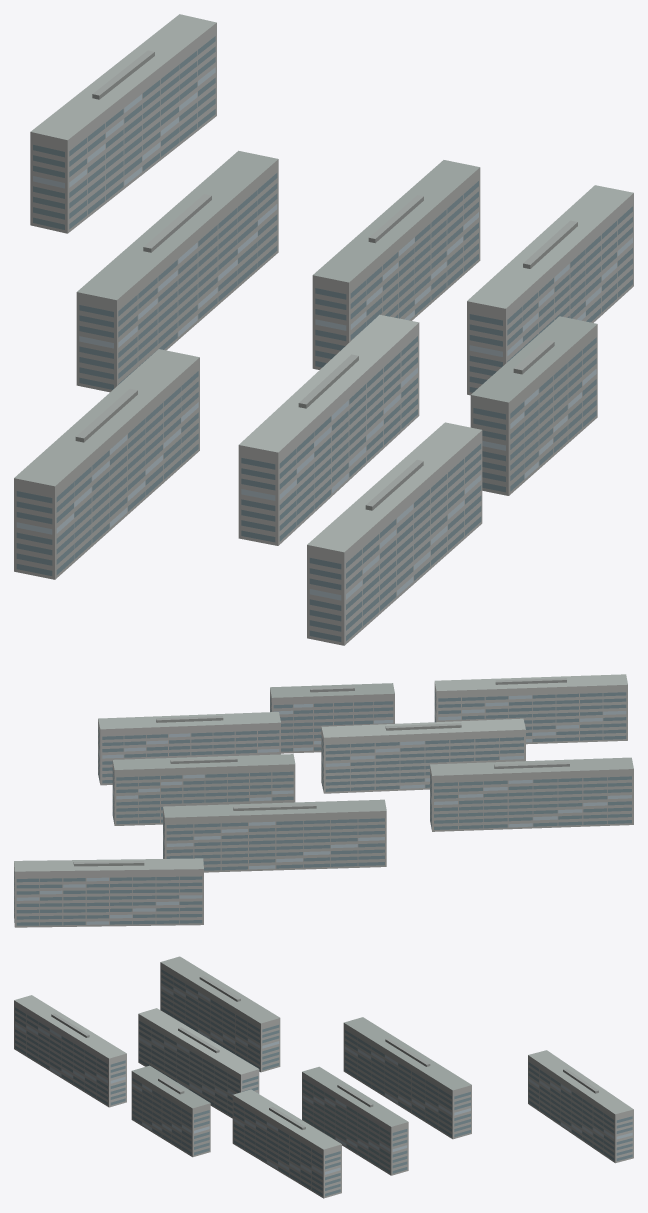
The model's file is apt-a13527013.glb.
3 renders of one model, top to bottom at view 1: azimuth 30°, elevation 25°; view 2: azimuth 150°, elevation 25°; view 3: azimuth 270°, elevation 25°, orthographic. The views are drawn at different scales.
Parts seen in each view (by area): view 1: apt-a13527013; view 2: apt-a13527013; view 3: apt-a13527013.
Boxes of the visible parts, x1=… form: apt-a13527013: x1=14, y1=14, x2=633, y2=645; apt-a13527013: x1=14, y1=674, x2=633, y2=927; apt-a13527013: x1=14, y1=956, x2=633, y2=1198.
Size of the model in its own units: 233 by 28.69 by 315.
